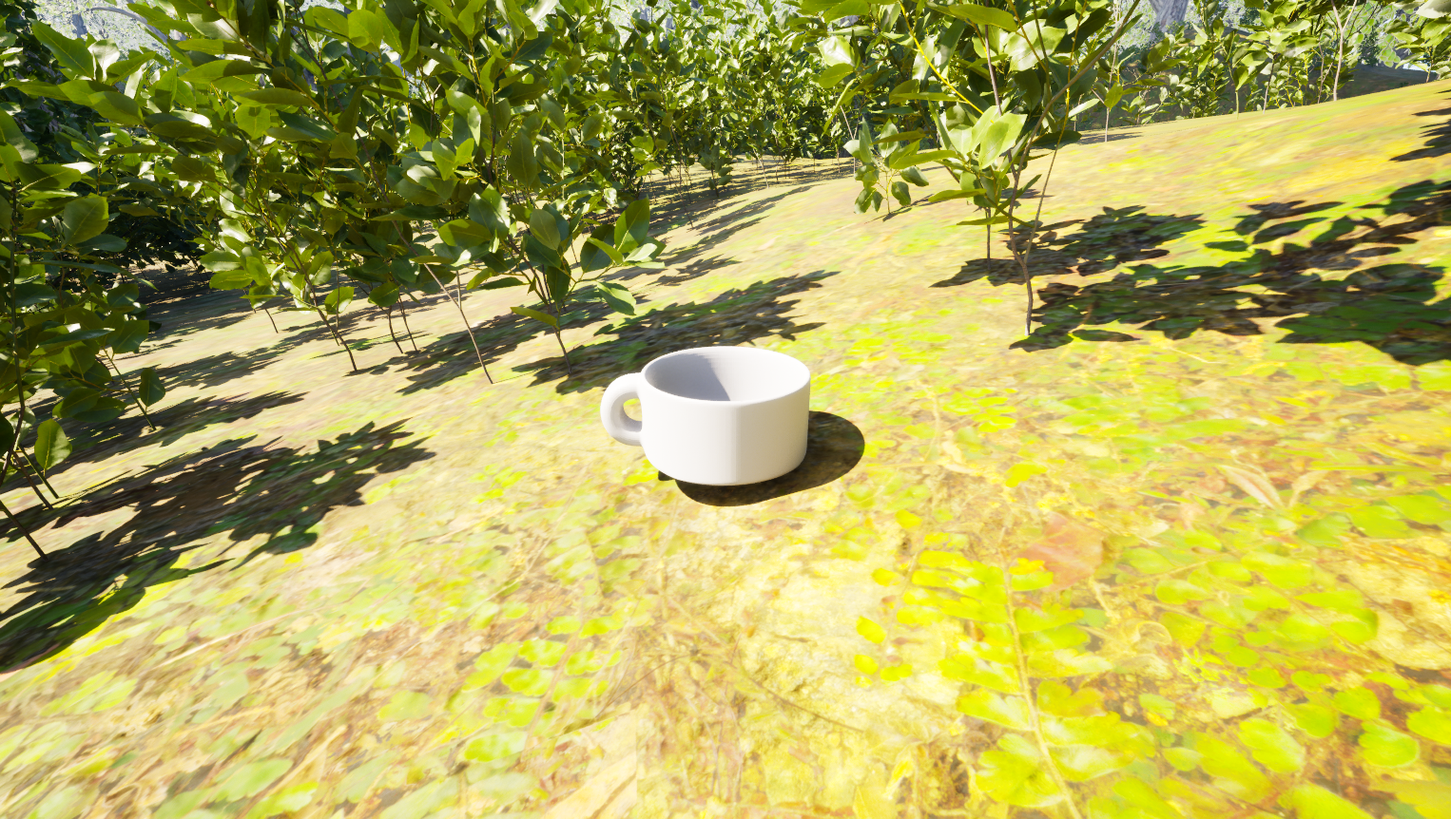Teacup: (584, 334, 839, 507)
